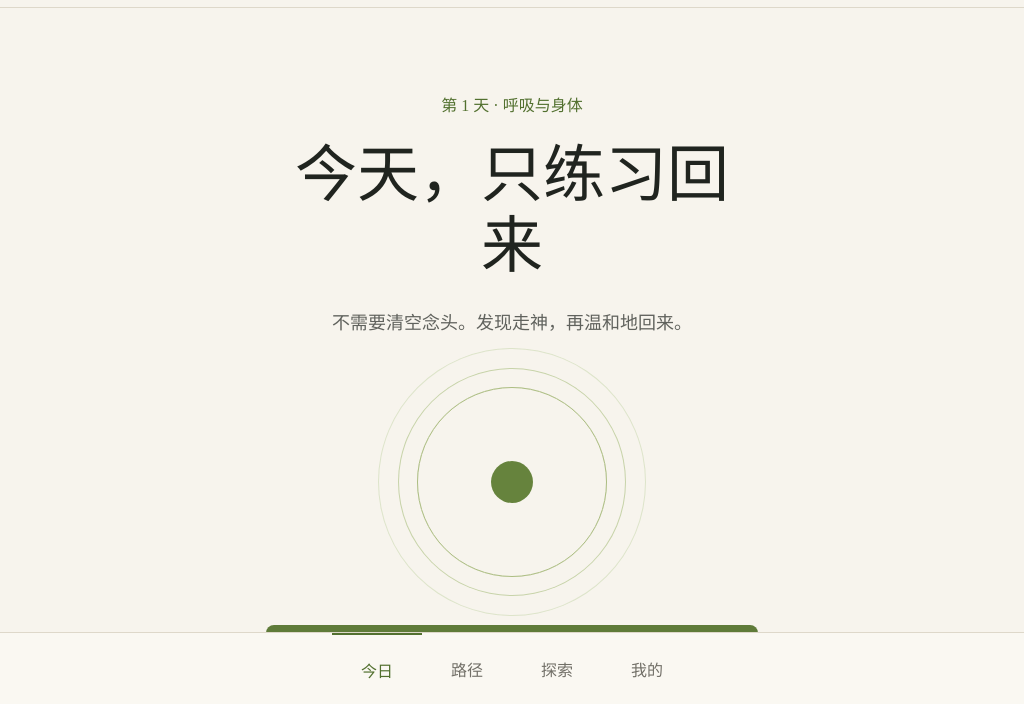
app › shows all path states
Click the button "路径". click: click(467, 668)
box: x1=422 y1=633 x2=512 y2=703
(page scrolled)
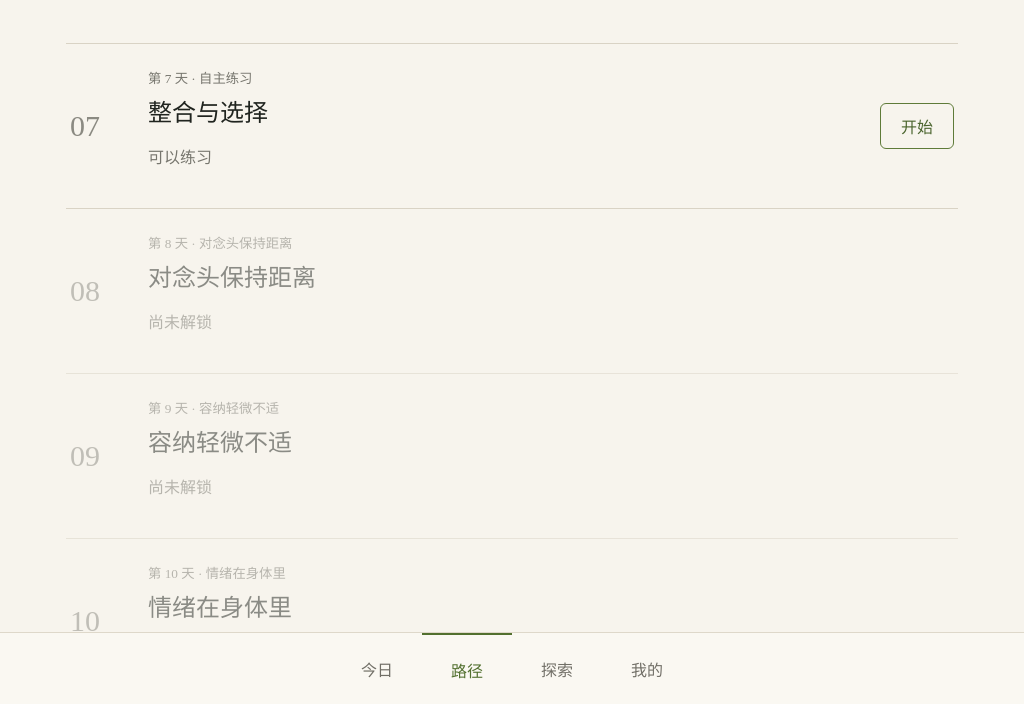
Expected: the text "尚未解锁" below "08" is shown, x1=148 y1=314 x2=212 y2=331
